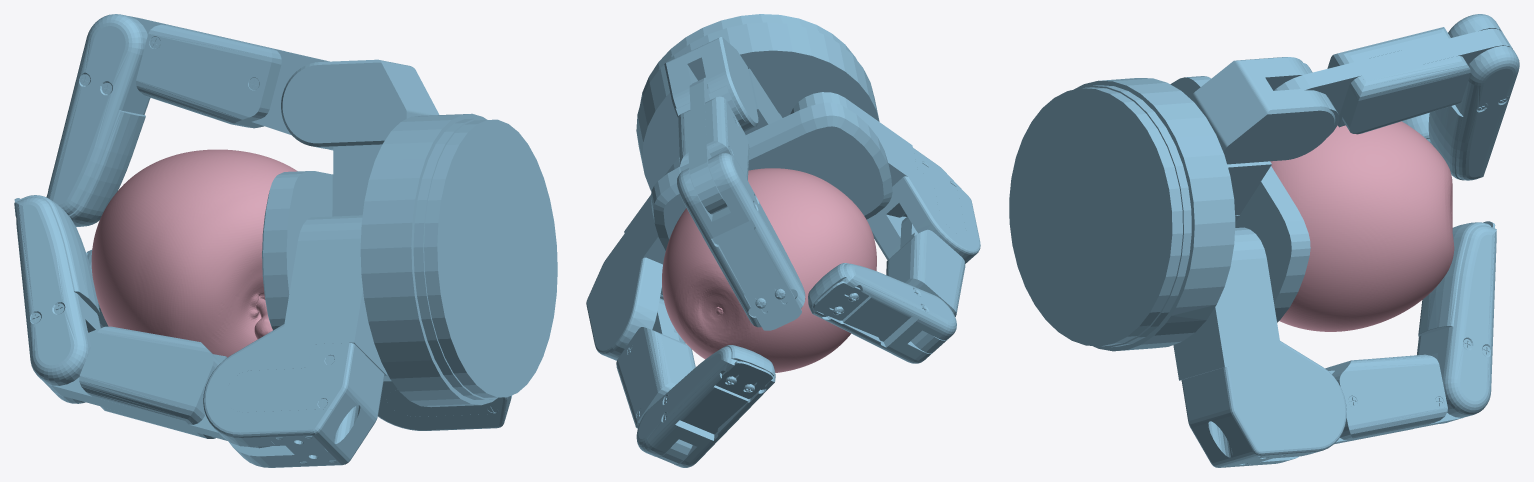
3 renders of one model, left to right at view 1: azimuth 30°, elevation 25°; view 2: azimuth 150°, elevation 25°; view 3: azimuth 270°, elevation 25°, orthographic. The views are drawn at different scales.
Parts seen in each view (by area): view 1: world; view 2: world; view 3: world.
Part boxes in pixels (<box>): world: <box>14,14,557,467</box>; world: <box>586,14,980,467</box>; world: <box>1009,14,1519,467</box>.
Bounding box in the file's own units: 0.1635 × 0.1416 × 0.1675.
